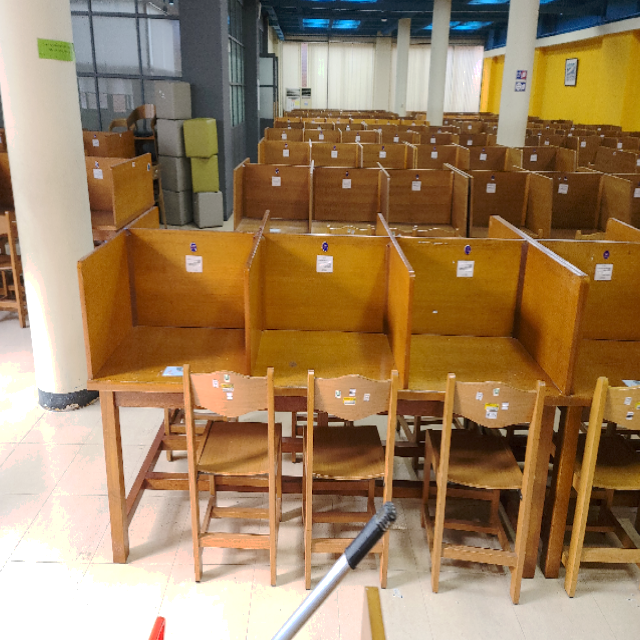empty: (79, 223, 247, 475), (415, 222, 569, 476), (253, 221, 409, 466)
